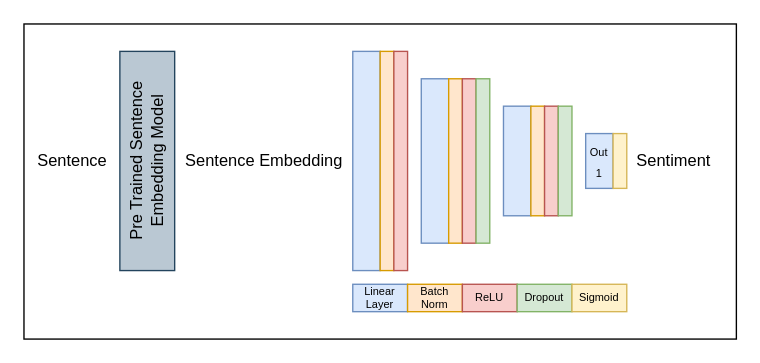
Some shapes in this 760 by 363 pixel diagram are drawn without their labels. Here are the shapes that lost their labels. From the top down, the box of each, then its label:
(351, 50, 380, 271): Out 256
(420, 77, 449, 243): Out 128
(502, 105, 531, 216): Out 32
